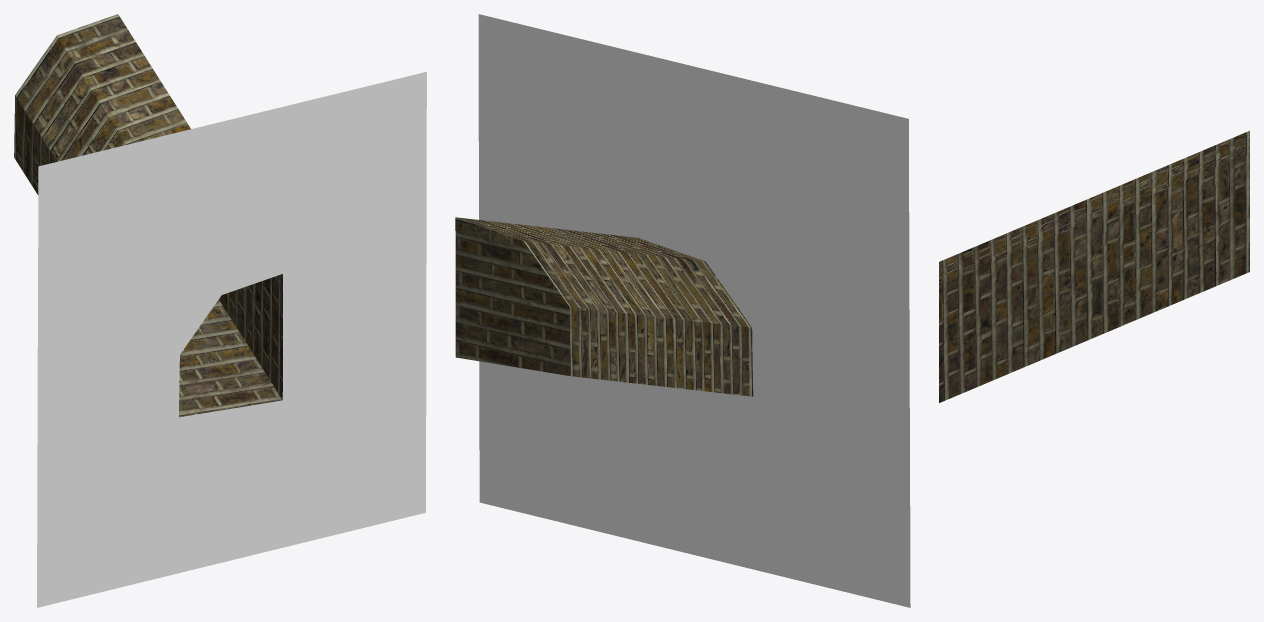
The model's file is crystal2.fbx.
3 views of the same model, side by side, from view 1: azimuth 30°, elevation 25°; view 2: azimuth 150°, elevation 25°; view 3: azimuth 270°, elevation 25° (orthographic). The views are drawn at different scales.
Parts seen in each view (by area): view 1: Plane; view 2: Plane; view 3: Plane.
Boxes of the visible parts, x1,y1,x2,y2 form: Plane: (14,14,426,607); Plane: (455,14,910,607); Plane: (939,130,1249,402).
Size of the model in its own units: 225 by 243 by 164.
